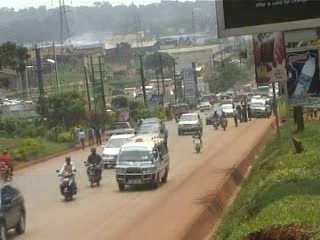Car: (0, 179, 35, 238), (100, 131, 139, 171), (173, 112, 205, 139), (204, 107, 229, 127), (220, 103, 236, 118), (196, 99, 212, 113)
Motorcycle: (55, 154, 82, 200), (84, 147, 104, 191), (0, 145, 17, 183), (191, 124, 208, 155), (209, 109, 220, 132), (219, 111, 229, 133)
